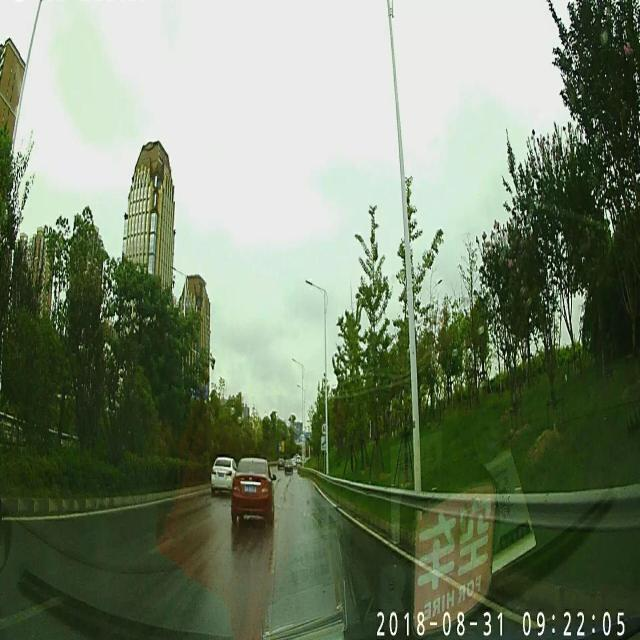car: (231, 460, 274, 526), (209, 456, 238, 487), (286, 460, 294, 472)
